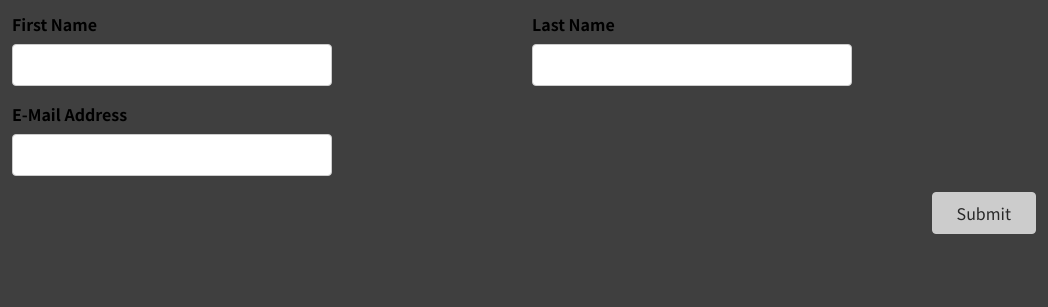
BasicForm › removes errors on key press if input is valid
Click the field labelled "First Name".
click(172, 65)  # box [12, 44, 332, 86]
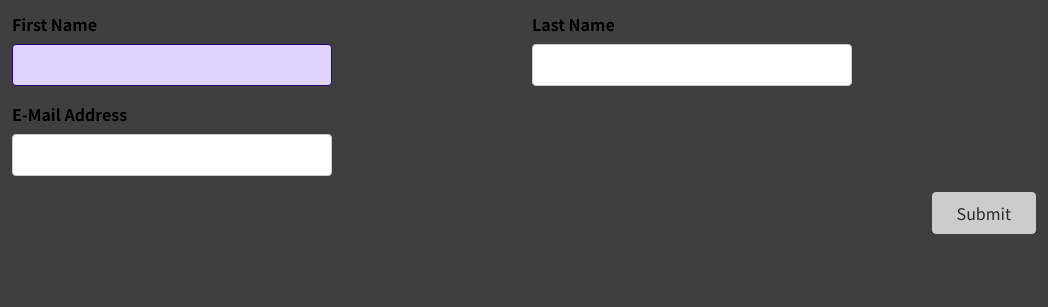
Click the element with test id "first-name-container".
click(172, 49)  # box [12, 12, 332, 86]
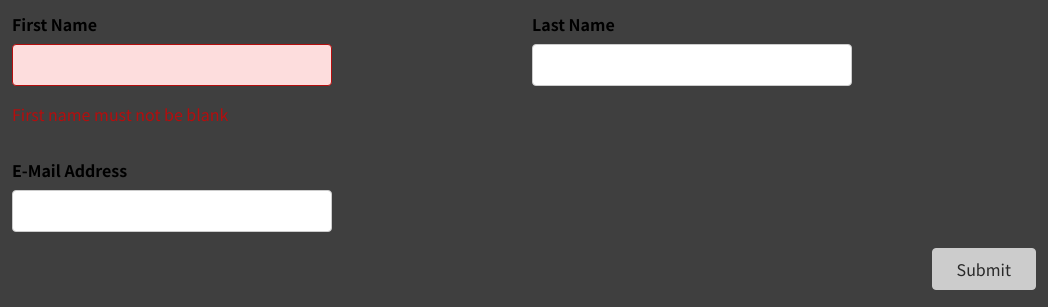
Check: the text "First name must not be blank" is shown, box [12, 102, 228, 126]
Type "test" into the field labelled "First Name".
click(172, 65); type("test")  # box [12, 44, 332, 86]
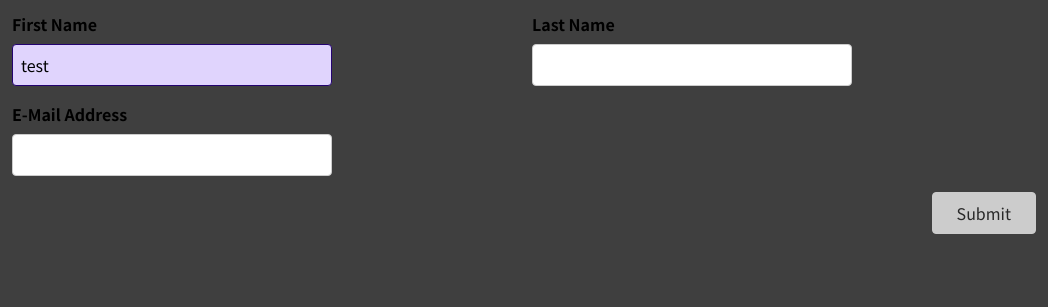
Check: the text "First name must not be blank" is gone
